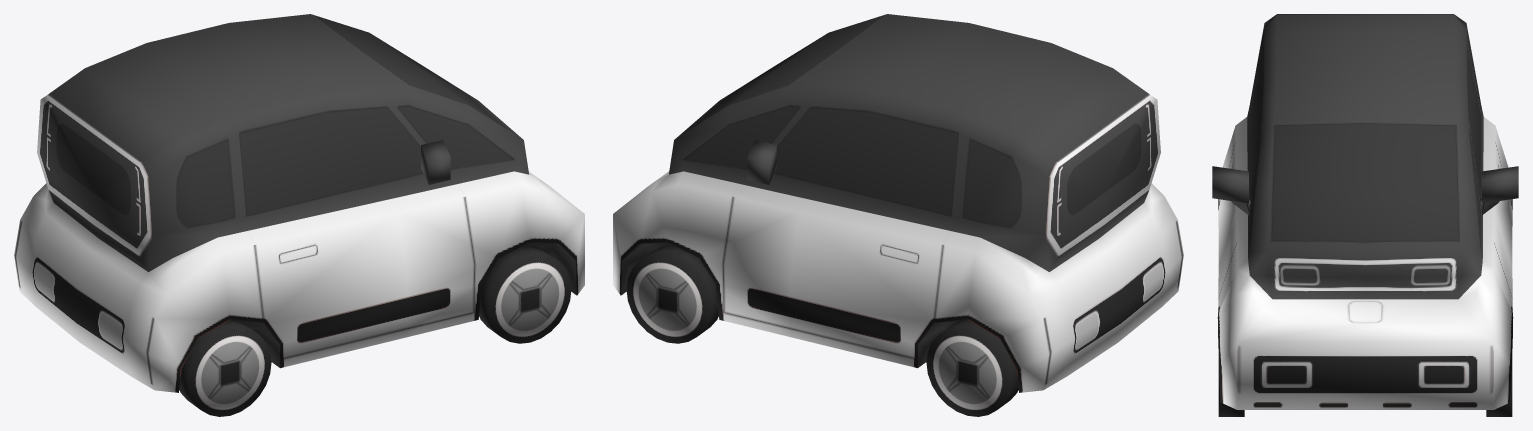
The model's file is Car_E300.glb.
3 views of the same model, side by side, from view 1: azimuth 30°, elevation 25°; view 2: azimuth 150°, elevation 25°; view 3: azimuth 270°, elevation 25° (orthographic). The views are drawn at different scales.
Visible parts, largest first — view 1: Box002; view 2: Box002; view 3: Box002.
Boxes of the visible parts, x1=… form: Box002: x1=14, y1=14, x2=584, y2=416; Box002: x1=613, y1=14, x2=1183, y2=416; Box002: x1=1212, y1=14, x2=1518, y2=416.
Bounding box in the file's own units: 259 × 152 × 163.
Materials: 1 (1 with a texture image).
